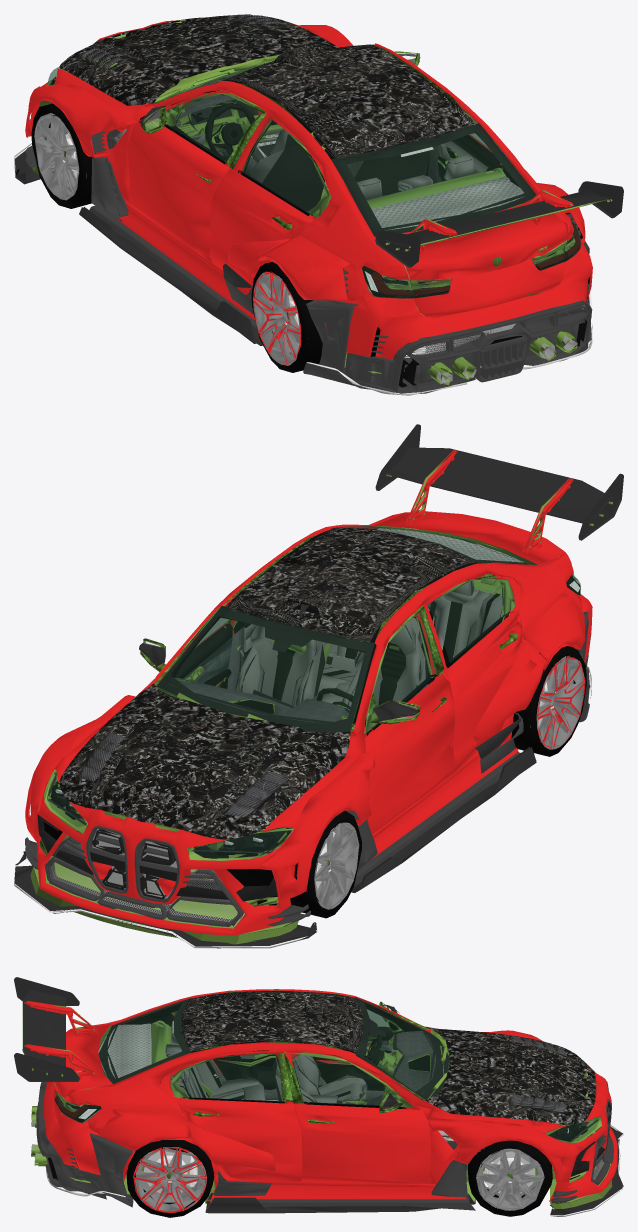
The model's file is bmw-m3-competition.glb.
3 renders of one model, top to bottom at view 1: azimuth 30°, elevation 25°; view 2: azimuth 150°, elevation 25°; view 3: azimuth 270°, elevation 25°, orthographic. The views are drawn at different scales.
Parts seen in each view (by area): view 1: Object_35_baked, Object_56_baked, Object_8_baked, Object_162_baked, Object_55_baked, Object_25_baked, Object_65_baked, Object_198_baked, Object_69_baked, Object_90_baked, Object_66_baked, Object_154_baked (+8 smaller); view 2: Object_35_baked, Object_8_baked, Object_56_baked, Object_162_baked, Object_55_baked, Object_69_baked, Object_25_baked, Object_67_baked, Object_198_baked, Object_66_baked, Object_9_baked, Object_90_baked (+9 smaller); view 3: Object_35_baked, Object_56_baked, Object_8_baked, Object_162_baked, Object_25_baked, Object_55_baked, Object_69_baked, Object_198_baked, Object_90_baked, Object_65_baked, Object_66_baked, Object_67_baked (+7 smaller).
Part boxes in pixels (x1,y1,x2,y2): Object_35_baked: (25,20,609,365); Object_56_baked: (15,53,623,393); Object_8_baked: (59,15,475,158); Object_162_baked: (47,44,581,298); Object_55_baked: (62,45,577,383); Object_25_baked: (32,44,612,384); Object_65_baked: (188,122,523,286); Object_198_baked: (31,103,566,372); Object_69_baked: (191,123,502,199); Object_90_baked: (164,103,502,215); Object_66_baked: (170,74,440,183); Object_154_baked: (63,21,280,125); Object_35_baked: (25,449,592,935); Object_8_baked: (59,527,475,839); Object_56_baked: (14,424,623,948); Object_162_baked: (47,526,580,857); Object_55_baked: (37,527,555,901); Object_69_baked: (236,580,503,706); Object_25_baked: (30,450,612,944); Object_67_baked: (169,528,503,724); Object_198_baked: (290,646,586,918); Object_66_baked: (170,609,503,724); Object_9_baked: (80,733,288,816); Object_90_baked: (175,611,509,735); Object_35_baked: (24,989,617,1212); Object_56_baked: (14,977,623,1215); Object_8_baked: (181,991,596,1124); Object_162_baked: (55,997,598,1142); Object_25_baked: (22,990,619,1208); Object_55_baked: (31,997,611,1188); Object_69_baked: (165,1024,444,1134); Object_198_baked: (126,1139,552,1217); Object_90_baked: (183,1027,404,1108); Object_65_baked: (80,1023,445,1134); Object_66_baked: (209,1031,446,1138); Object_67_baked: (121,1002,421,1100).
Size of what is drawn, in the model's own units: 1.87 by 1.24 by 4.4.
56 materials, 40 textured.
